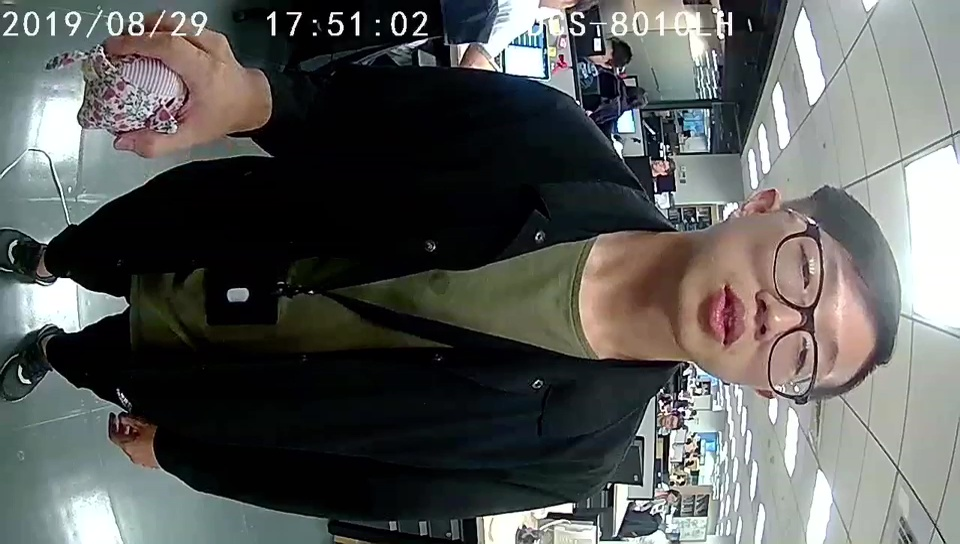pig: (74, 52, 191, 136)
